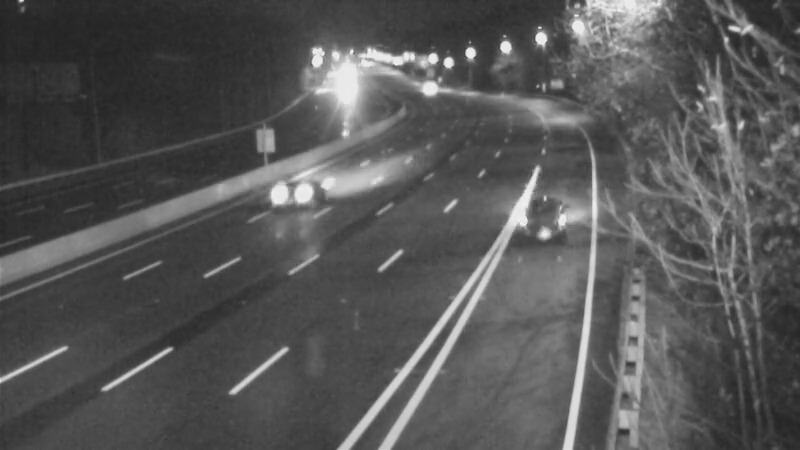vehicle: (502, 177, 582, 257), (266, 149, 346, 229), (396, 63, 446, 113)
